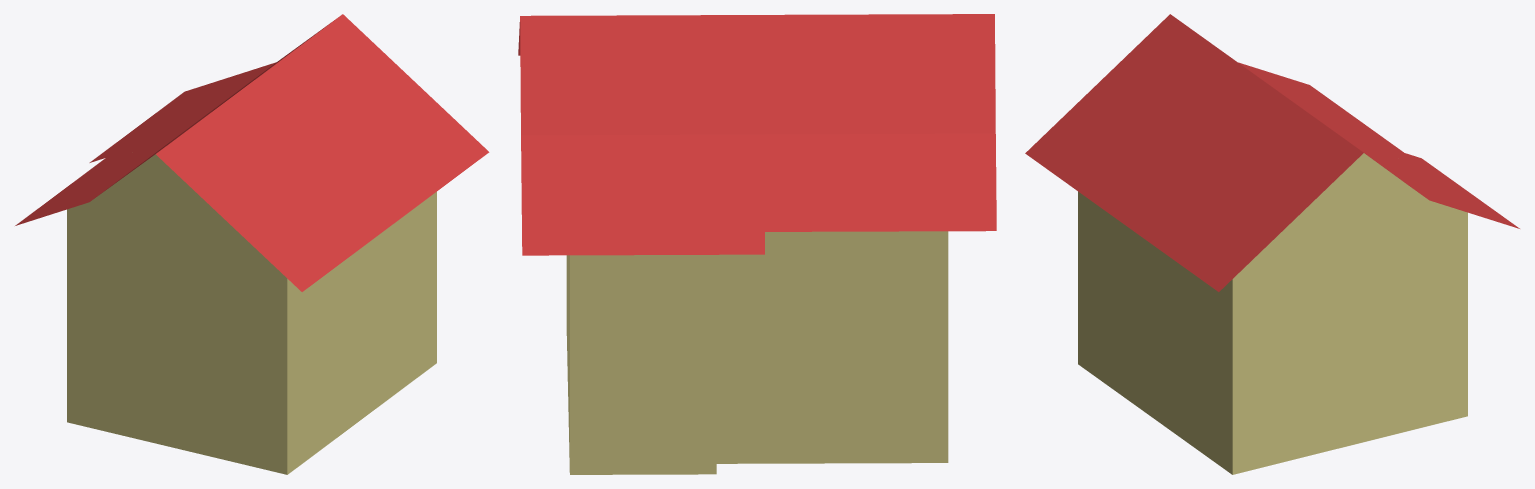
3 renders of one model, left to right at view 1: azimuth 30°, elevation 25°; view 2: azimuth 150°, elevation 25°; view 3: azimuth 270°, elevation 25°, orthographic. The views are drawn at different scales.
Size of the model in its own units: 19.27 by 19.25 by 13.21.
